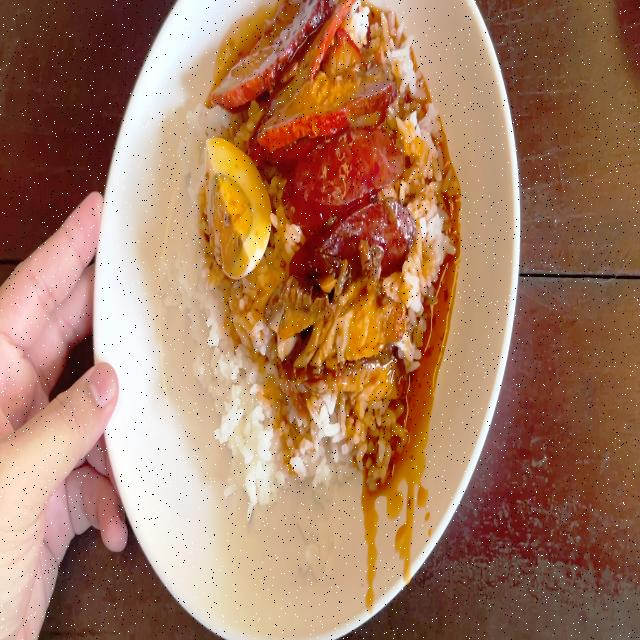boiled_egg: (208, 144, 262, 264)
chainese_sausage: (300, 130, 404, 282)
crispy_pork: (265, 284, 406, 396)
red_pork: (215, 0, 347, 109), (264, 59, 393, 143)
red_pork_and_crispy_pork: (178, 0, 448, 500)
rice: (196, 278, 270, 490), (267, 398, 397, 481)
